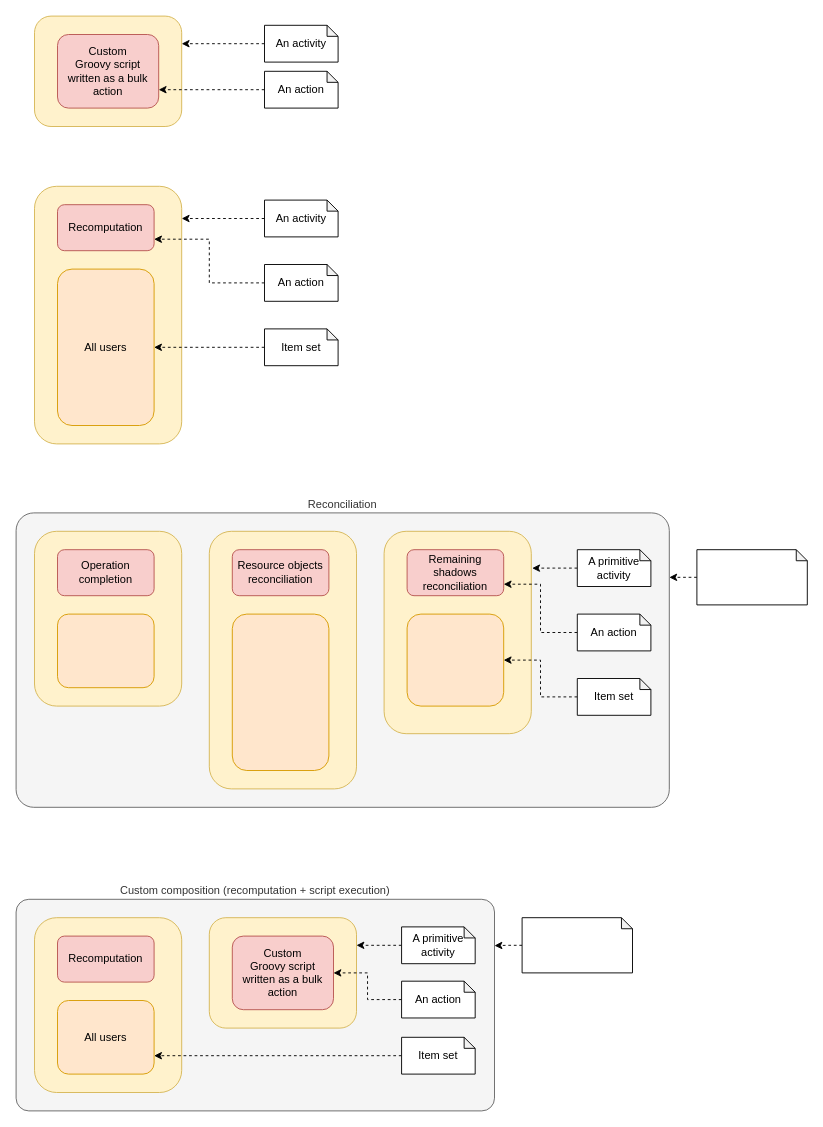
Image size: 823x1127. Some labels were removed from this diagram. The box of each missing label's shape, as (x1, y1, x2, y2) in pixels:
A (predefined) composite activity: (696, 549, 807, 605)
A custom composite activity: (521, 917, 632, 973)
All accounts on HR resource: (231, 613, 329, 770)
Shadows not synchronized since the resource objects reconciliation started: (406, 613, 504, 706)
Shadows with pending operations: (57, 613, 154, 688)
